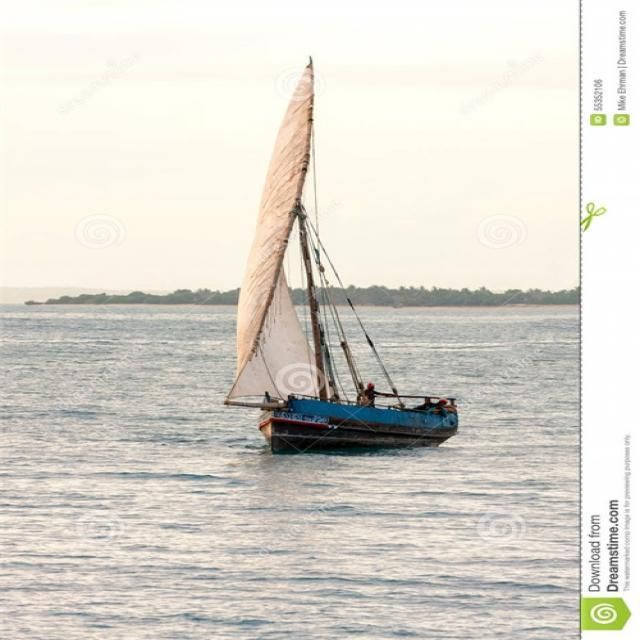Ship: (221, 51, 473, 469)
